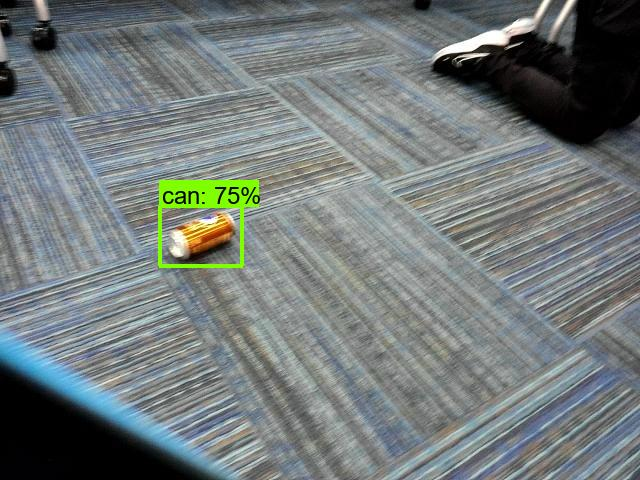can: (166, 206, 240, 265)
